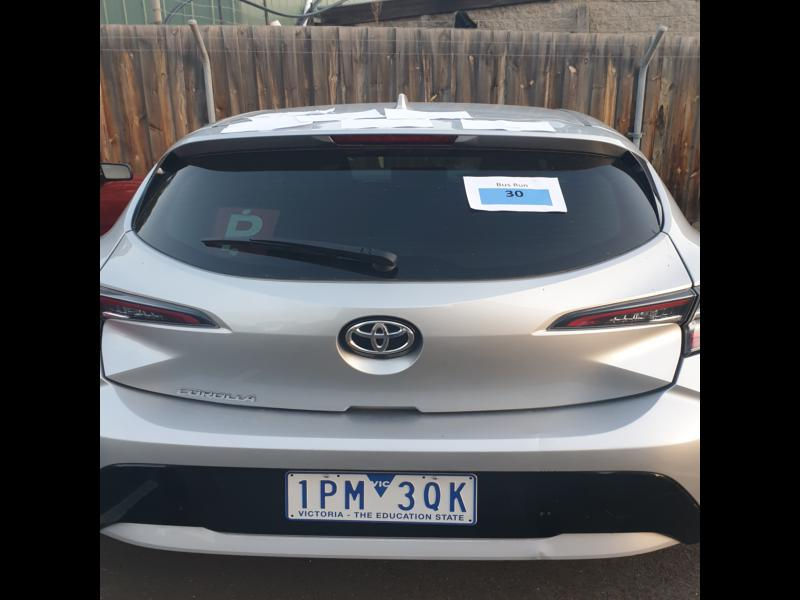BusRun: (478, 186, 555, 206)
PlateNo: (287, 470, 478, 527)
